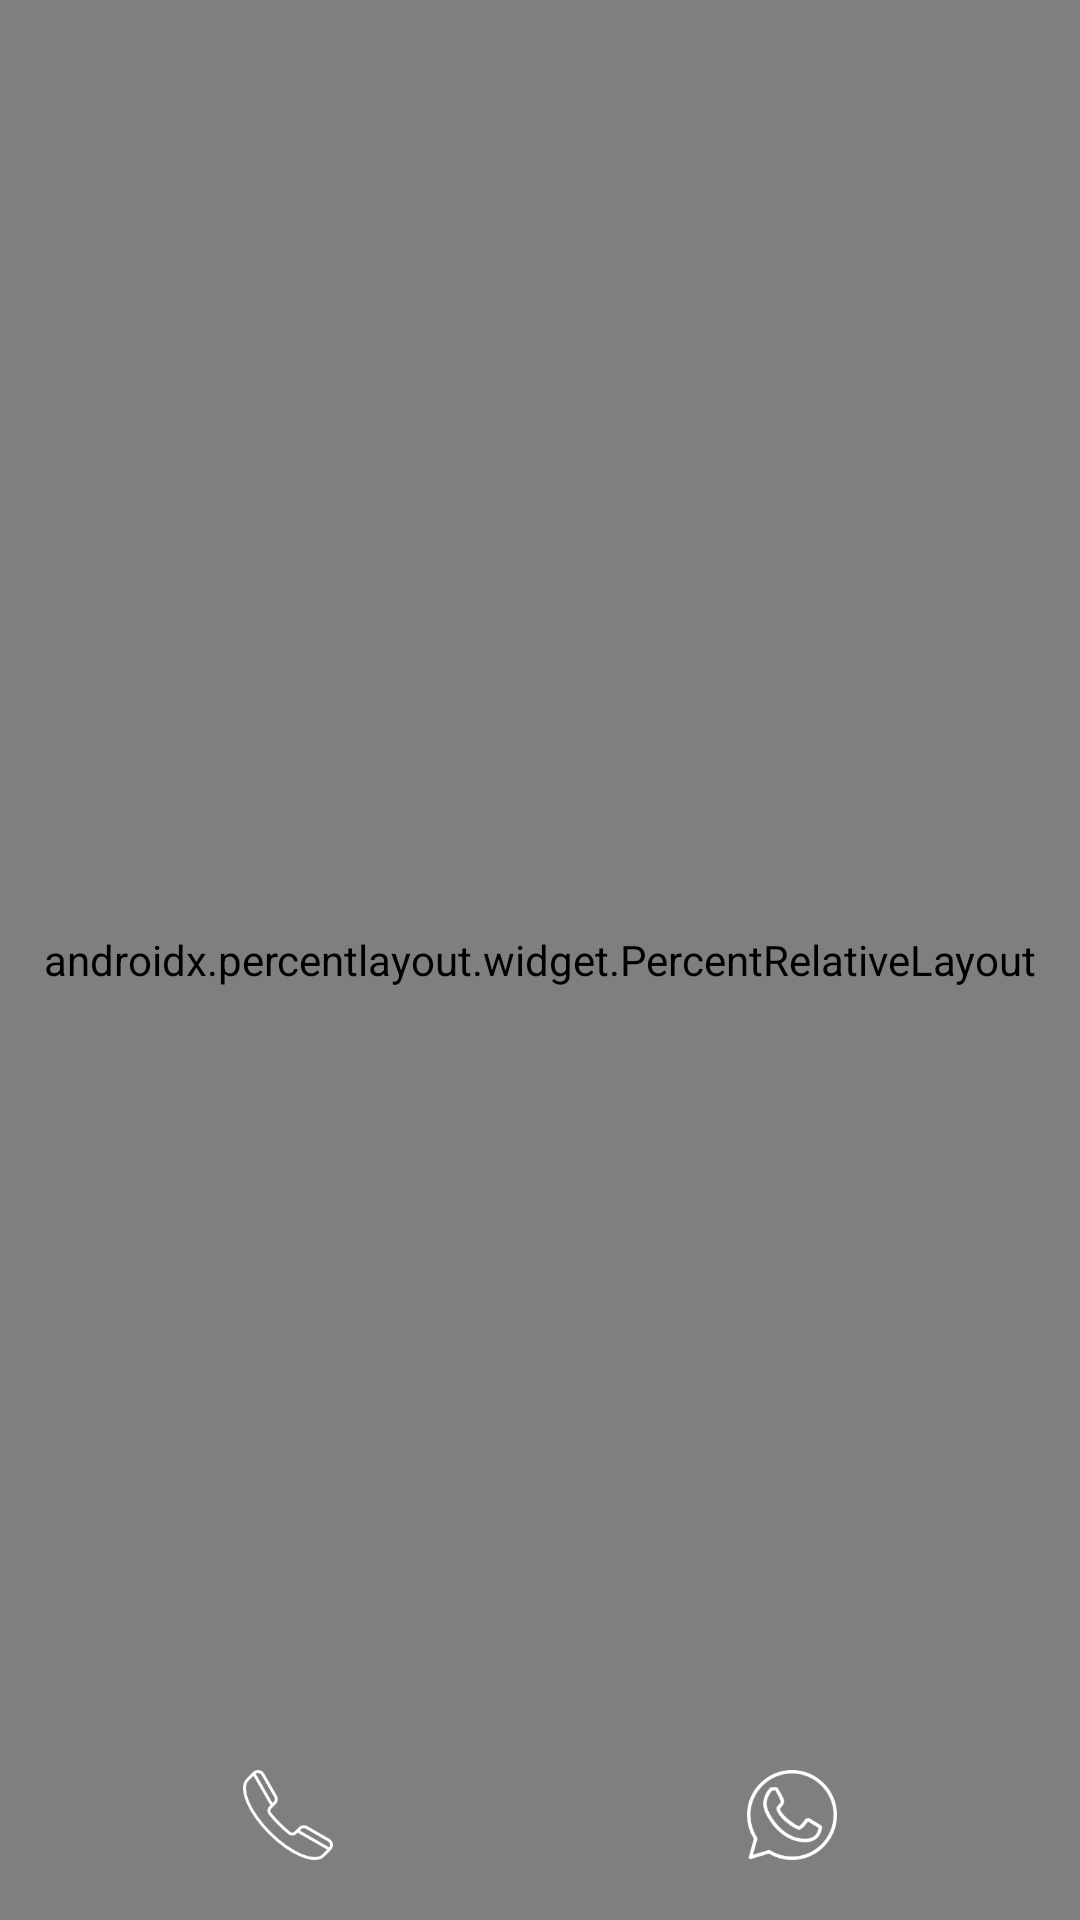

Point at icon controls on the screen. Image size 1080px x 1920px, points as (x=x, y=y).
phone call: (x=288, y=1815)
